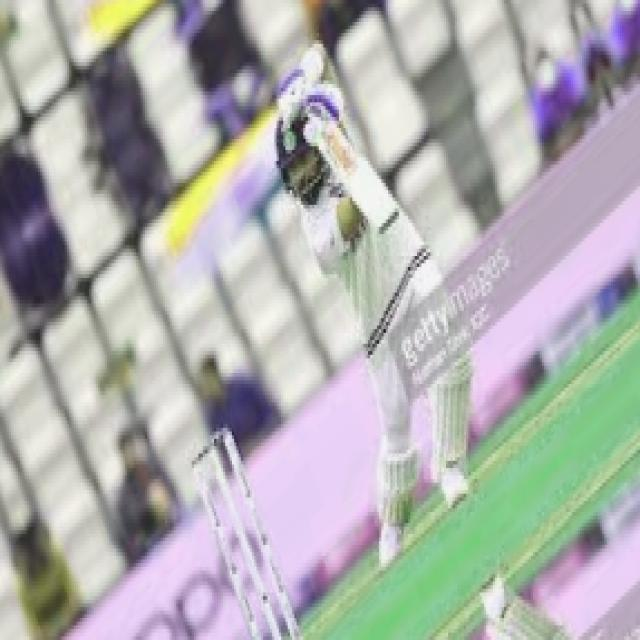bat: (314, 114, 410, 248)
toe: (360, 214, 409, 240)
